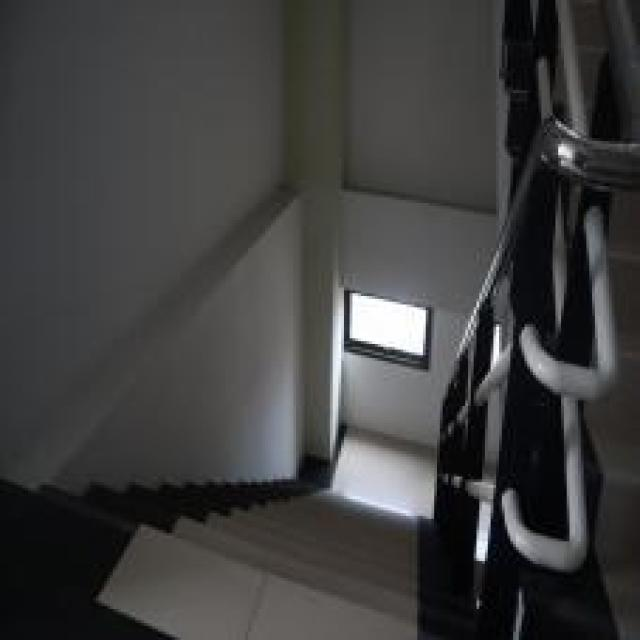downstair: (111, 444, 438, 638)
